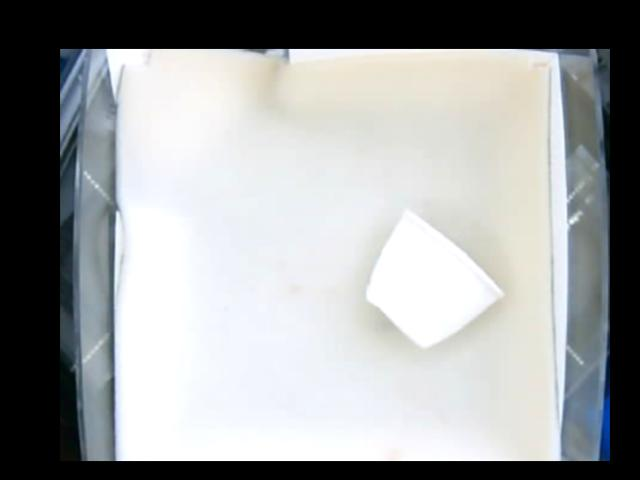Cup: (363, 205, 505, 346)
